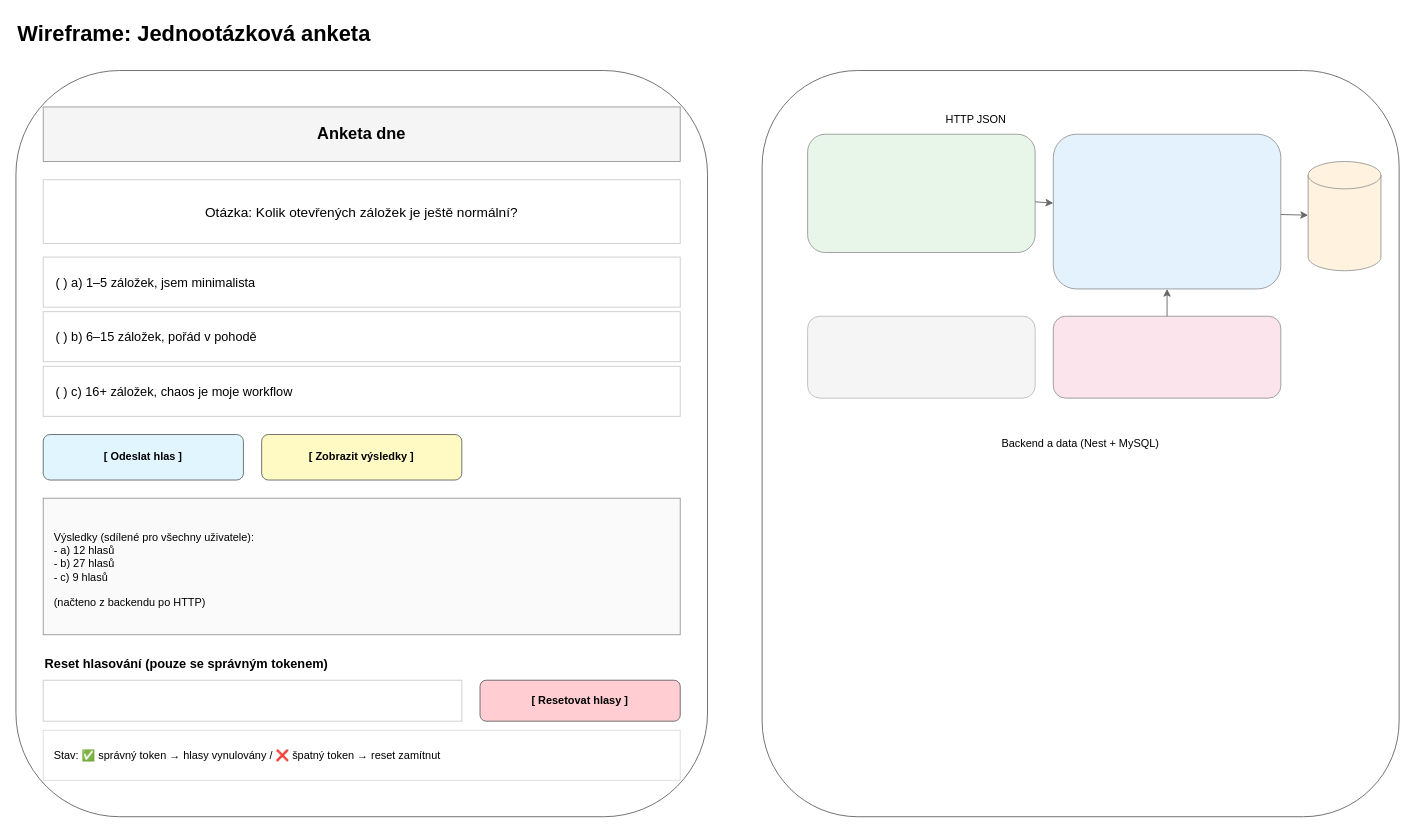
Image size: 1415x833. Some labels were removed from this diagram. Here are the shapes that lost their labels. From the top down, the centre of each, then its label:
the point at 921,193: Frontend React + TypeScript + Vite Obrazovka ankety
the point at 1166,211: NestJS API POST /vote GET /results POST /reset (token)
the point at 1344,216: MySQL Tabulka votes - option_id - count
the point at 921,356: Po reloadu stránky data zůstávají (uloženo v MySQL)
the point at 1166,356: Reset token uložen na serveru (env/config)
the point at 252,700: Token: [____________________]
